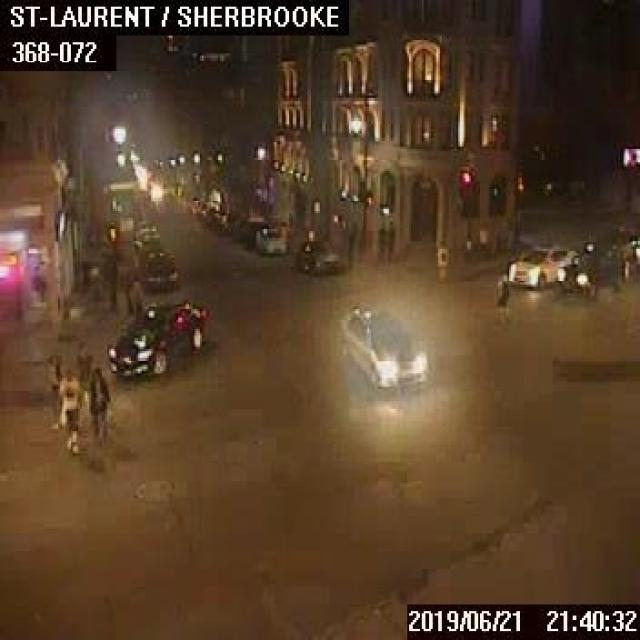pedestrian: (54, 366, 83, 454), (84, 367, 109, 445), (493, 268, 507, 316), (384, 218, 394, 258), (376, 220, 384, 261)
vehicle: (338, 302, 427, 386), (109, 300, 204, 373), (557, 242, 622, 292), (509, 242, 577, 286), (293, 238, 340, 273), (143, 250, 178, 290), (253, 223, 286, 256), (241, 214, 268, 247), (136, 232, 162, 262)
